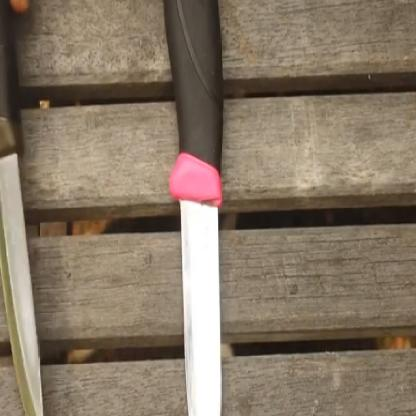knife: (163, 100, 236, 415), (0, 0, 53, 415)
